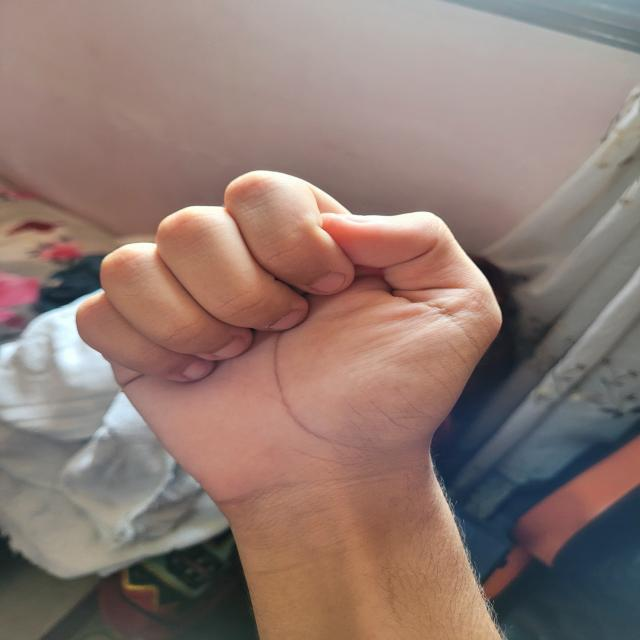Closed Hand: (74, 167, 506, 512)
